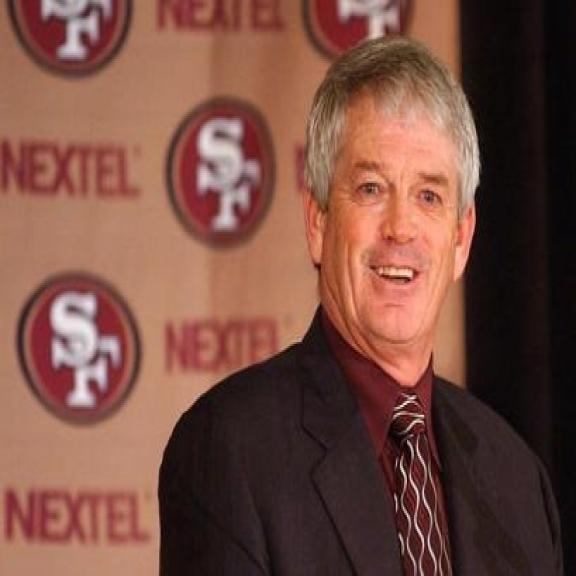face: (302, 73, 473, 339)
